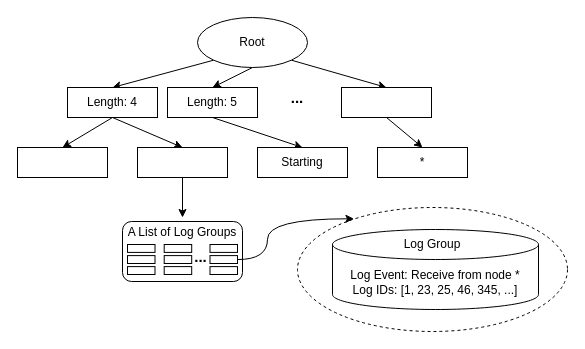
This 585x349 diagram has some shape labels left out. The shapes that lost their labels are listed below. From the top down, each one's centre as x and y in pixels, then its label:
At pixel 386 102: "Length: 10".
At pixel 62 162: "Send".
At pixel 182 162: "Receive".
